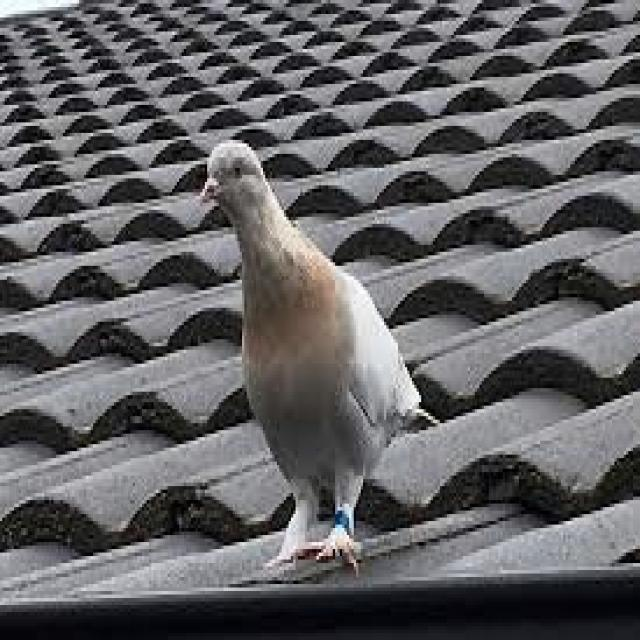pigeon: (200, 140, 438, 570)
